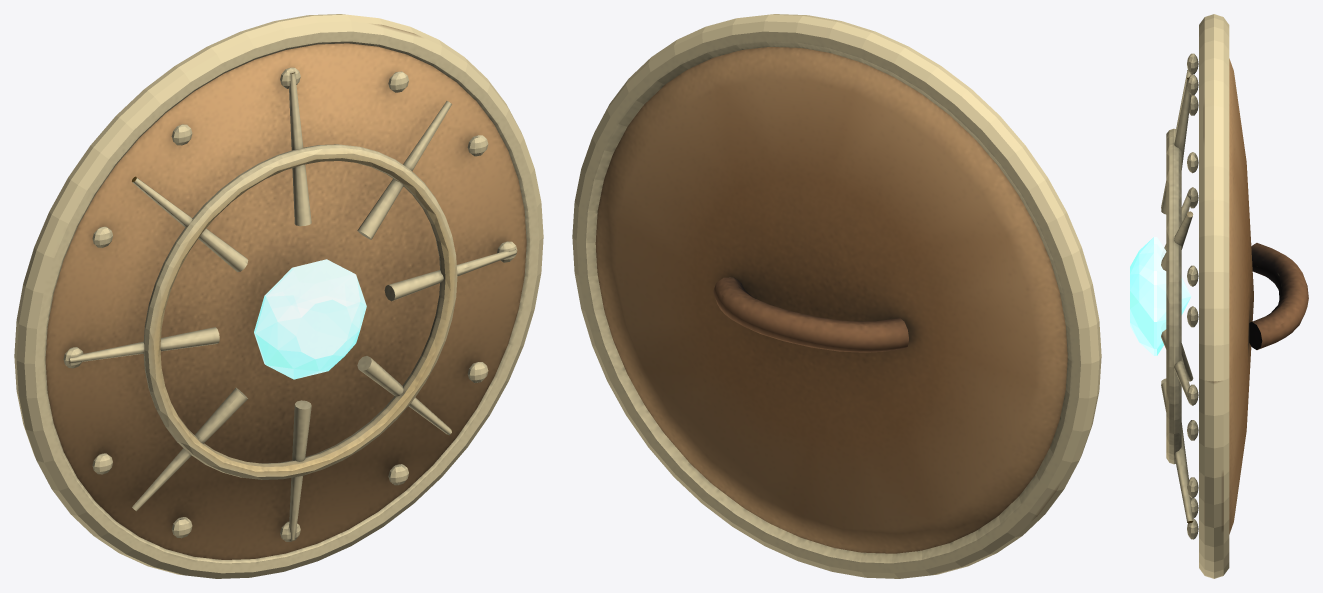
Rendered from arma_broquel_mare.glb.
3 views of the same model, side by side, from view 1: azimuth 30°, elevation 25°; view 2: azimuth 150°, elevation 25°; view 3: azimuth 270°, elevation 25° (orthographic). The views are drawn at different scales.
Parts seen in each view (by area): view 1: arma_broquel_mare, gema; view 2: arma_broquel_mare; view 3: arma_broquel_mare, gema.
Boxes of the visible parts, x1=… form: arma_broquel_mare: x1=14, y1=14, x2=543, y2=578; gema: x1=254, y1=259, x2=366, y2=379; arma_broquel_mare: x1=572, y1=14, x2=1101, y2=578; arma_broquel_mare: x1=1161, y1=14, x2=1308, y2=578; gema: x1=1130, y1=237, x2=1191, y2=355.
Size of the model in its own units: 0.424 by 0.424 by 0.1341.
2 materials, 1 textured.
